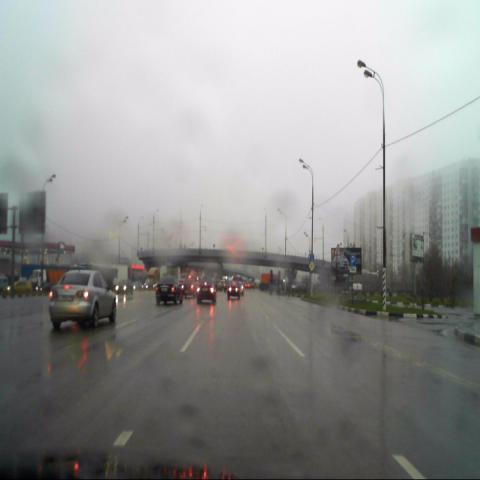1_20_3: (334, 244, 341, 255)
6_4: (350, 254, 357, 266)
